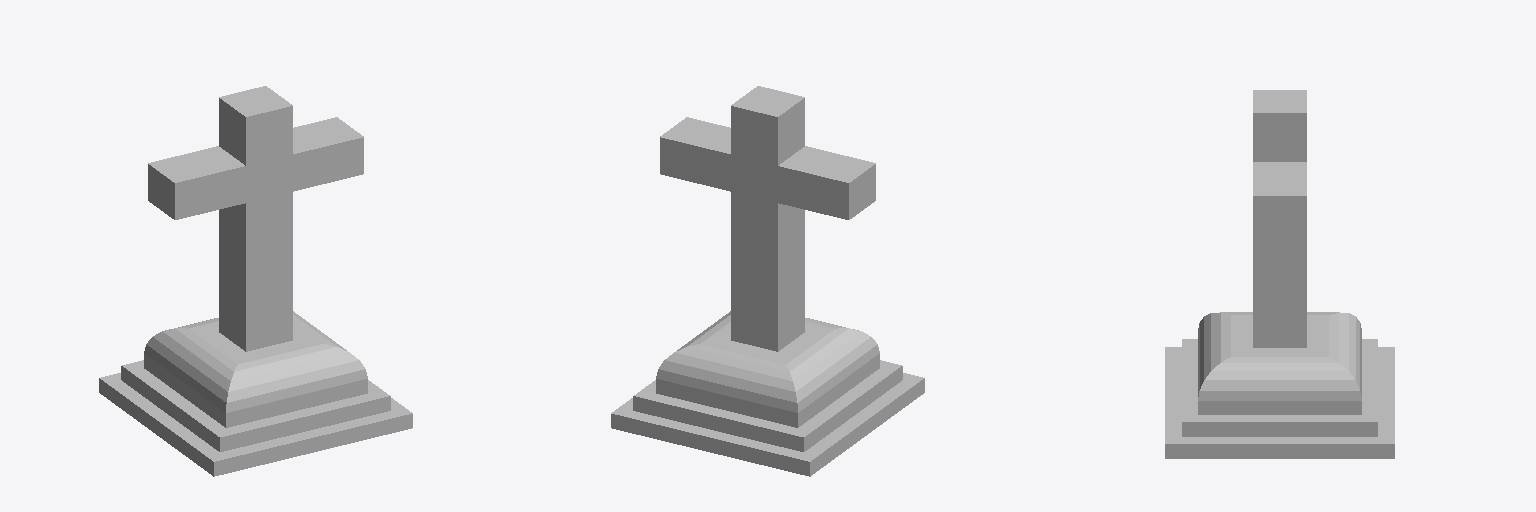
The picture shows the model from 3 angles: view 1: azimuth 30°, elevation 25°; view 2: azimuth 150°, elevation 25°; view 3: azimuth 270°, elevation 25°; orthographic projection.
Visible parts, largest first — view 1: kuruse_cutuv:pCube1; view 2: kuruse_cutuv:pCube1; view 3: kuruse_cutuv:pCube1.
Boxes of the visible parts, box(x1,y1,x2,y2) form: kuruse_cutuv:pCube1: box(99, 86, 412, 476); kuruse_cutuv:pCube1: box(611, 86, 924, 476); kuruse_cutuv:pCube1: box(1165, 90, 1394, 458).
Bounding box in the file's own units: 140 × 208 × 140.